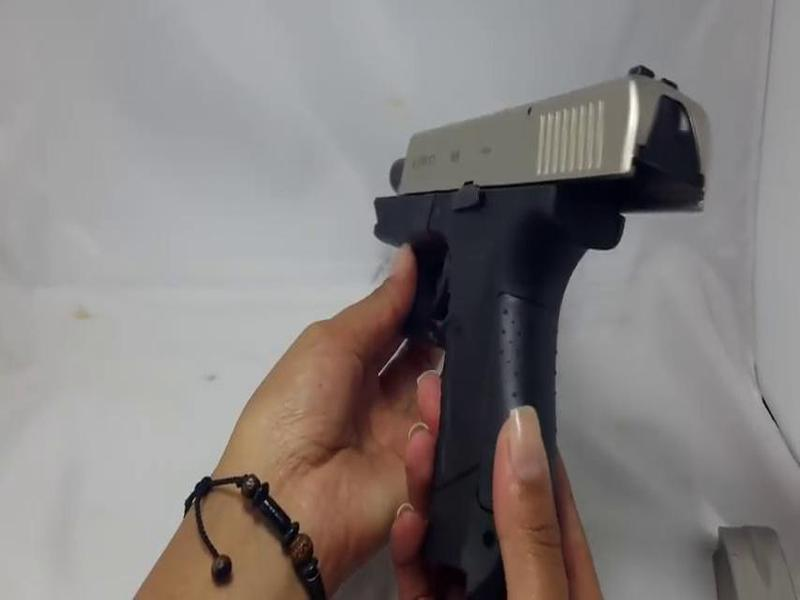Pistola: (337, 54, 732, 586)
